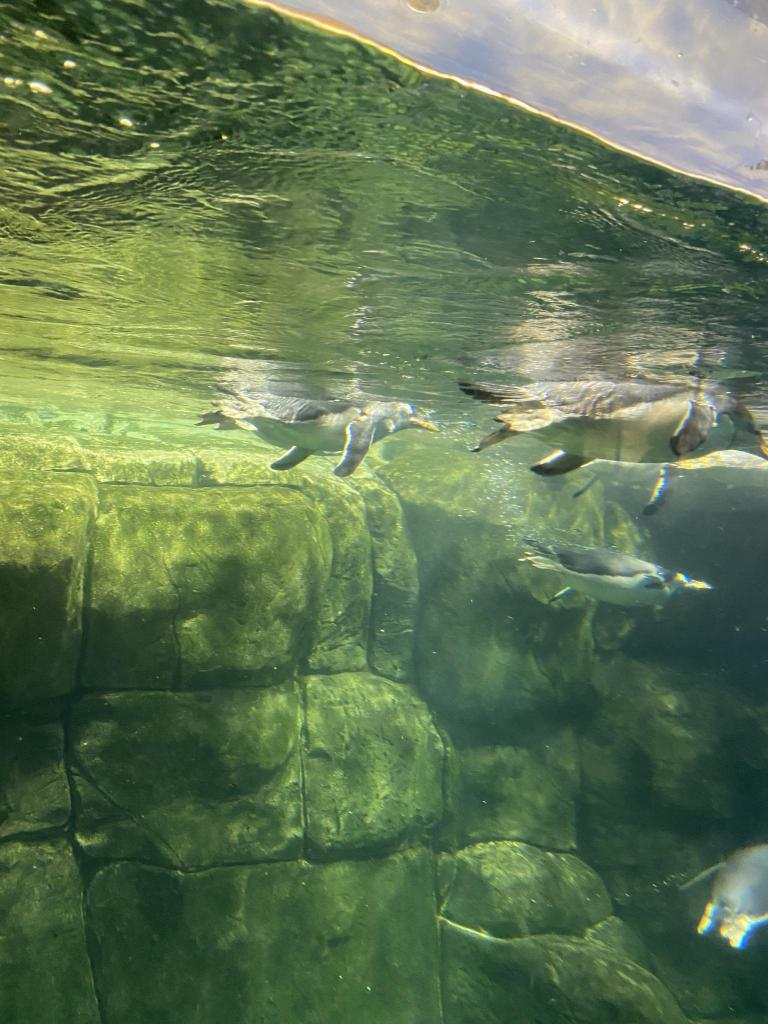penguin: (455, 378, 767, 480), (190, 392, 440, 474), (524, 530, 714, 620), (683, 844, 767, 950)
